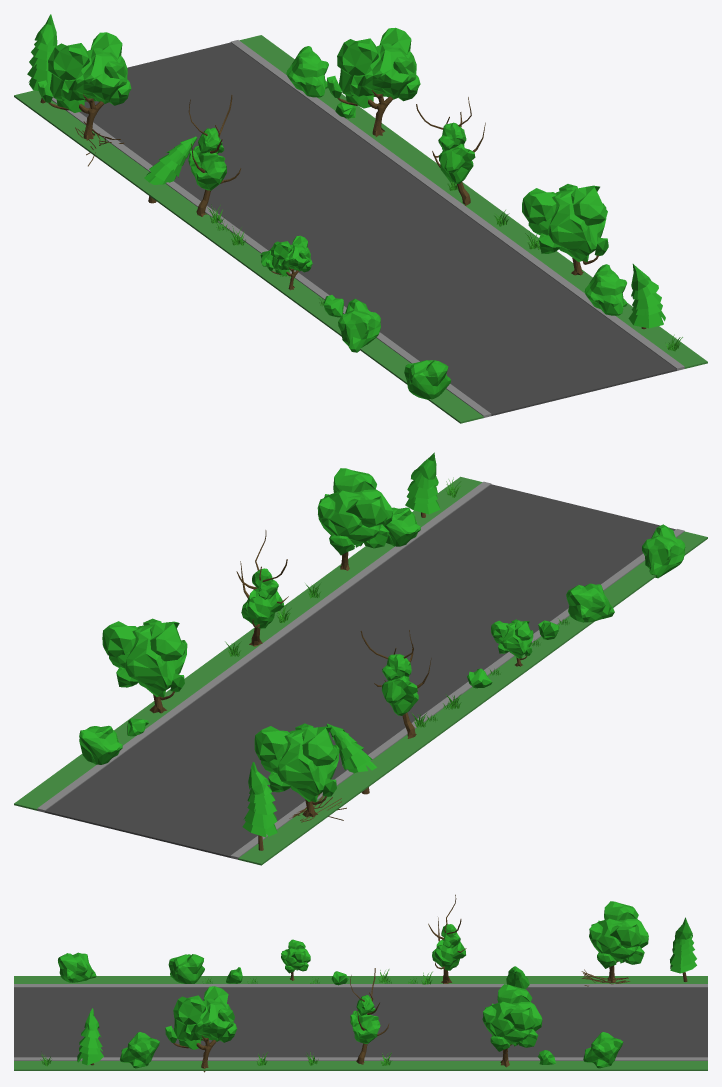
The picture shows the model from 3 angles, top to bottom: view 1: azimuth 30°, elevation 25°; view 2: azimuth 150°, elevation 25°; view 3: azimuth 270°, elevation 25°; orthographic projection. The views are drawn at different scales.
Parts seen in each view (by area): view 1: Cube.002, Cube.001, Cube.003, Tree1_Leaves_0.001, Tree1_Leaves_0.004, Tree1_Leaves_0.002, Cube.004, Cube, Tree2_Leaves_0.002, Tree2_Leaves_0.001, Tree3_Leaves_0.001, Leaves2_Leaves_0.002 (+6 smaller); view 2: Cube.002, Cube.001, Cube.003, Tree1_Leaves_0.004, Tree1_Leaves_0.001, Tree1_Leaves_0.002, Cube.004, Cube, Tree4_Leaves_0.001, Tree2_Leaves_0.002, Tree2_Leaves_0.001, Leaves2_Leaves_0.001 (+6 smaller); view 3: Cube.002, Cube.003, Cube.001, Tree1_Leaves_0.002, Tree1_Leaves_0.001, Tree1_Leaves_0.004, Cube, Cube.004, Tree2_Leaves_0.001, Tree4_Leaves_0.001, Tree2_Leaves_0.002, Leaves2_Leaves_0.003 (+9 smaller).
Boxes of the visible parts, x1,y1,x2,y2 form: Cube.002: (79,42,676,415); Cube.001: (14,90,483,423); Cube.003: (239,35,707,368); Tree1_Leaves_0.001: (38,32,131,112); Tree1_Leaves_0.004: (327,27,420,108); Tree1_Leaves_0.002: (522,184,608,261); Cube.004: (230,40,684,370); Cube: (52,96,491,417); Tree2_Leaves_0.002: (188,127,226,190); Tree2_Leaves_0.001: (438,122,475,183); Tree3_Leaves_0.001: (628,264,665,328); Leaves2_Leaves_0.002: (338,298,380,352); Cube.002: (45,484,675,857); Cube.001: (238,531,707,865); Cube.003: (14,476,482,810); Tree1_Leaves_0.004: (102,618,187,697); Tree1_Leaves_0.001: (254,723,339,802); Tree1_Leaves_0.002: (317,468,392,555); Cube.004: (37,481,491,812); Cube: (230,529,684,859); Tree4_Leaves_0.001: (242,762,277,837); Tree2_Leaves_0.002: (382,654,418,715); Tree2_Leaves_0.001: (241,568,283,628); Leaves2_Leaves_0.001: (642,524,685,578); Cube.002: (14,987,707,1057); Cube.003: (14,1061,707,1070); Cube.001: (14,976,707,983); Tree1_Leaves_0.002: (165,986,237,1049); Tree1_Leaves_0.001: (589,901,648,968); Tree1_Leaves_0.004: (482,984,542,1051); Cube: (14,984,707,987); Cube.004: (14,1057,707,1060); Tree2_Leaves_0.001: (350,995,380,1043); Tree4_Leaves_0.001: (670,917,696,973); Tree2_Leaves_0.002: (432,924,465,970); Leaves2_Leaves_0.003: (120,1032,159,1068).
Bounding box in the file's own units: 3897 × 1650 × 10000.
